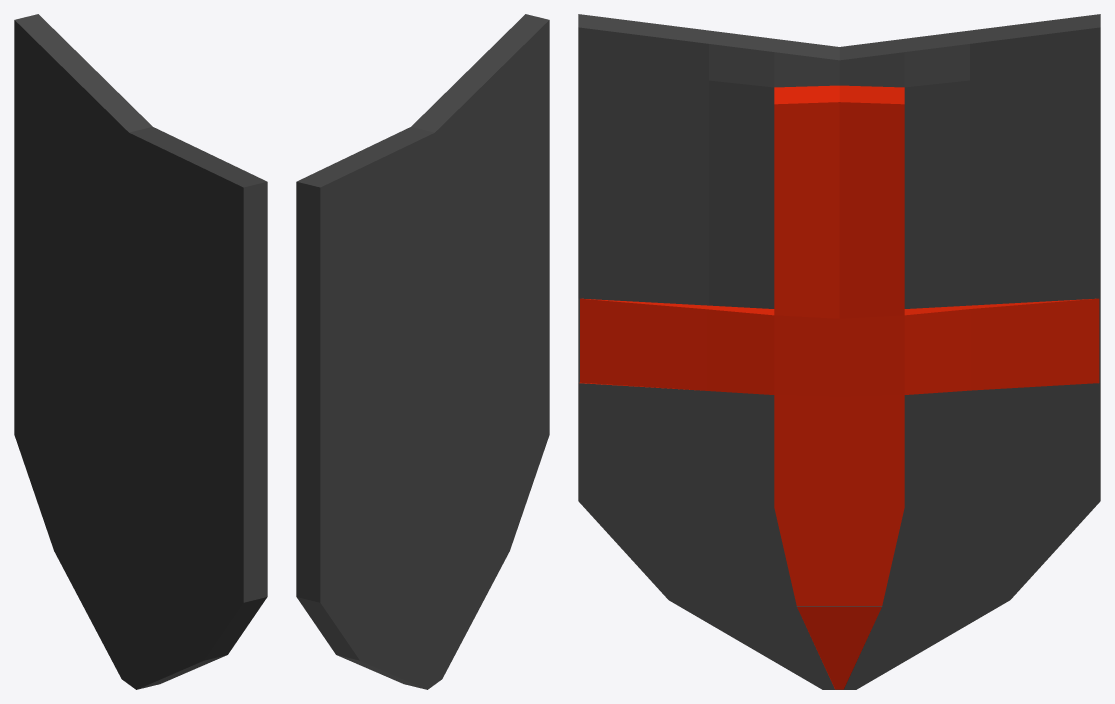
The model's file is shield.fbx.
3 views of the same model, side by side, from view 1: azimuth 30°, elevation 25°; view 2: azimuth 150°, elevation 25°; view 3: azimuth 270°, elevation 25° (orthographic). The views are drawn at different scales.
Parts seen in each view (by area): view 1: Cube; view 2: Cube; view 3: Cube, Cube.001.
Boxes of the visible parts, bbox=[...] form: Cube: bbox=[14, 14, 267, 689]; Cube: bbox=[296, 14, 549, 689]; Cube: bbox=[578, 14, 1100, 689]; Cube.001: bbox=[579, 85, 1099, 689].
Bounding box in the file's own units: 19.3 × 280 × 200.
